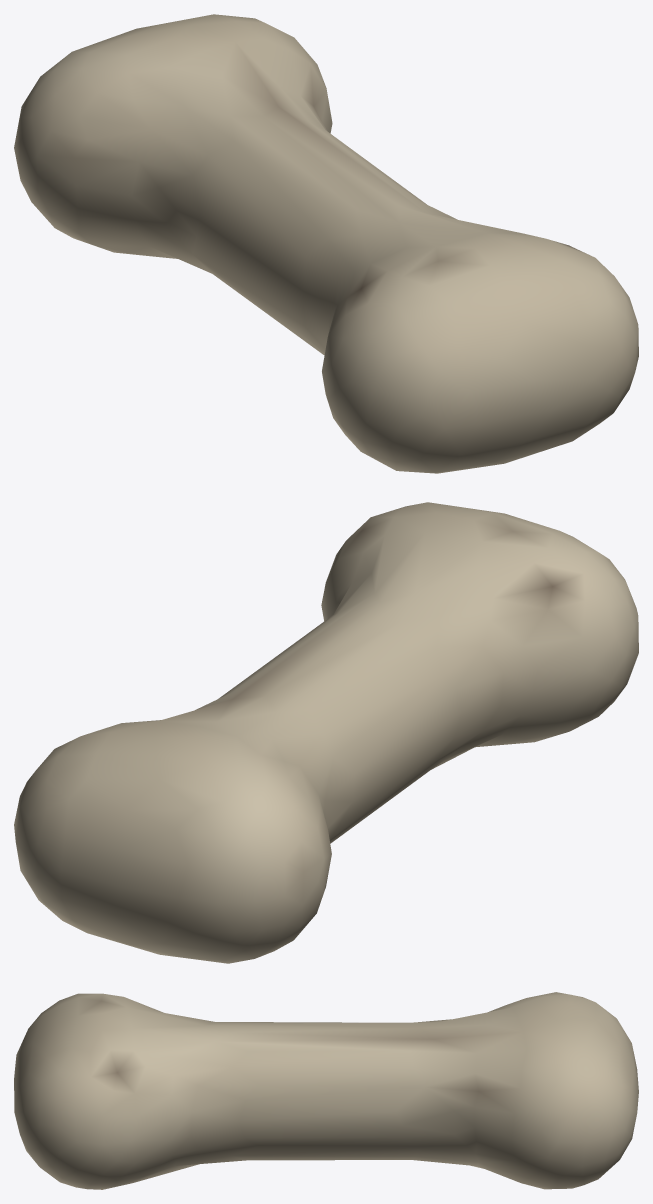
Rendered from skeletron_arm.glb.
3 renders of one model, top to bottom at view 1: azimuth 30°, elevation 25°; view 2: azimuth 150°, elevation 25°; view 3: azimuth 270°, elevation 25°, orthographic. The views are drawn at different scales.
Visible parts, largest first — view 1: skeletron_arm; view 2: skeletron_arm; view 3: skeletron_arm.
Boxes of the visible parts, bbox=[...] form: skeletron_arm: bbox=[14, 14, 638, 473]; skeletron_arm: bbox=[14, 502, 638, 963]; skeletron_arm: bbox=[14, 992, 638, 1189].
Size of the model in its own units: 0.4799 by 0.3277 by 1.18.
